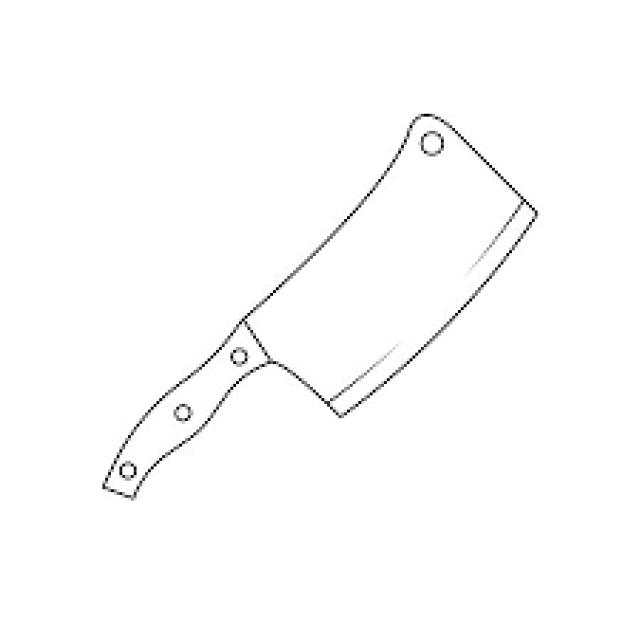Knife: (100, 108, 538, 498)
